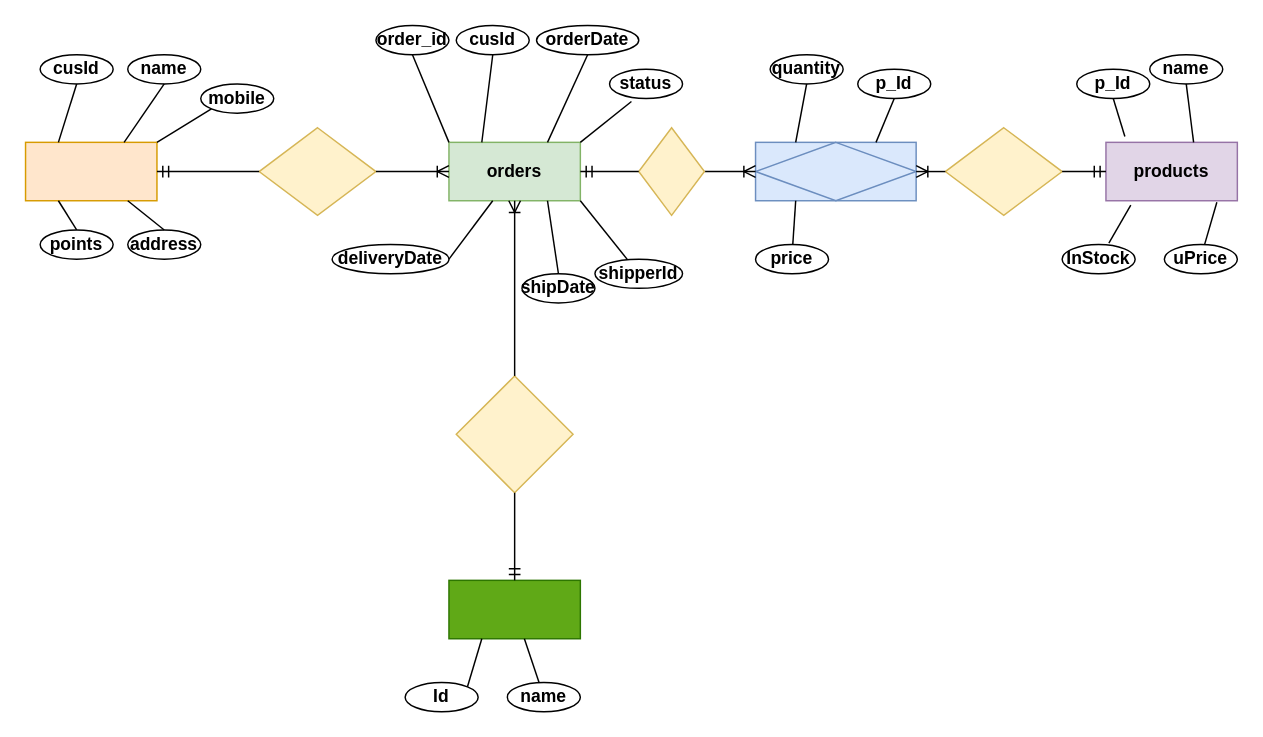
The diagram is 1263 pixels wide and 737 high, and some of its shapes have lost their labels. The shapes that lost their labels are listed below. From the top down, each one's box as (x1, y1, x2, y2) in pixels, then its label:
(24, 141, 157, 201): customers
(258, 126, 376, 215): makes
(637, 126, 704, 215): checks
(754, 141, 916, 201): shopping cart
(944, 126, 1062, 215): confirms
(455, 374, 573, 493): shipped by
(447, 579, 580, 639): shippers
